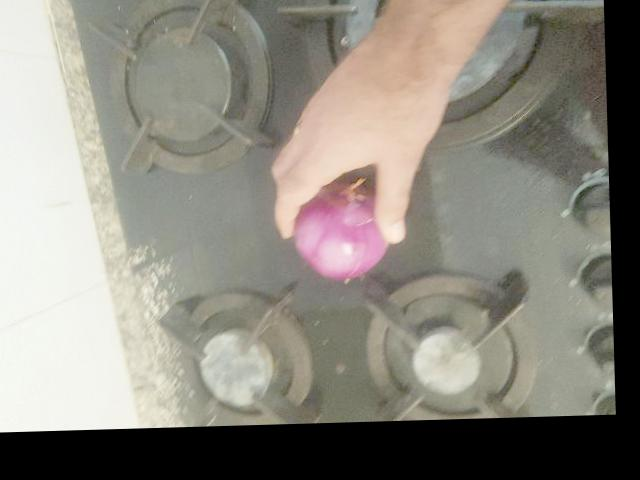onion: (291, 183, 391, 285)
